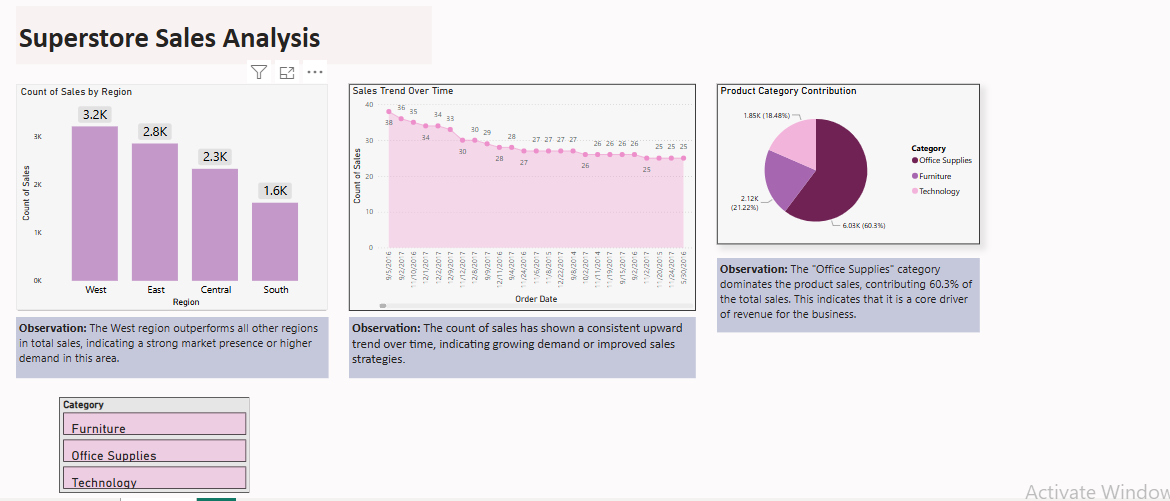

What the dashboard file says about the page in this screenshot:
{"tool":"powerbi","page":{"name":"Page 1","canvas":[2000,2000],"ordinal":0},"visuals":[{"type":"textbox","box":[30.2,33.6,692.8,97.3],"z":0},{"type":"columnChart","fields":{"Category":["superstore(data).Region"],"Y":["CountNonNull(superstore(data). Sales )"]},"box":[30.2,162.7,519.8,377.3],"z":1000},{"type":"textbox","box":[29.3,551.7,520.7,101.7],"z":2000},{"type":"lineChart","title":"Sales Trend Over Time","fields":{"Category":["superstore(data).Order Date"],"Y":["CountNonNull(superstore(data). Sales )"]},"box":[584.3,162.9,577.5,377.5],"z":3000},{"type":"textbox","box":[584.5,551.7,577.6,101.7],"z":3001},{"type":"pieChart","title":"Product Category Contribution","fields":{"Category":["superstore(data).Category"],"Y":["CountNonNull(superstore(data). Sales )"]},"box":[1198.4,163.5,438.1,266.7],"z":3002},{"type":"textbox","box":[1198.3,453.4,437.9,124.1],"z":3003},{"type":"advancedSlicerVisual","fields":{"Values":["superstore(data).Category"]},"box":[101.7,684.5,317.2,160.3],"z":3004}]}

Visuals, with their boxes on the page's 2000x2000 design canvas (x1, y1, x2, y2). These are canvas units, not pixel positions in the 1170x501 screenshot, which may show the page scaled, cropped or inside an application window:
textbox: x1=30, y1=34, x2=723, y2=131
columnChart - superstore(data).Region x CountNonNull(superstore(data). Sales ): x1=30, y1=163, x2=550, y2=540
textbox: x1=29, y1=552, x2=550, y2=653
"Sales Trend Over Time" lineChart: x1=584, y1=163, x2=1162, y2=540
textbox: x1=584, y1=552, x2=1162, y2=653
"Product Category Contribution" pieChart: x1=1198, y1=164, x2=1636, y2=430
textbox: x1=1198, y1=453, x2=1636, y2=578
advancedSlicerVisual - superstore(data).Category: x1=102, y1=684, x2=419, y2=845
